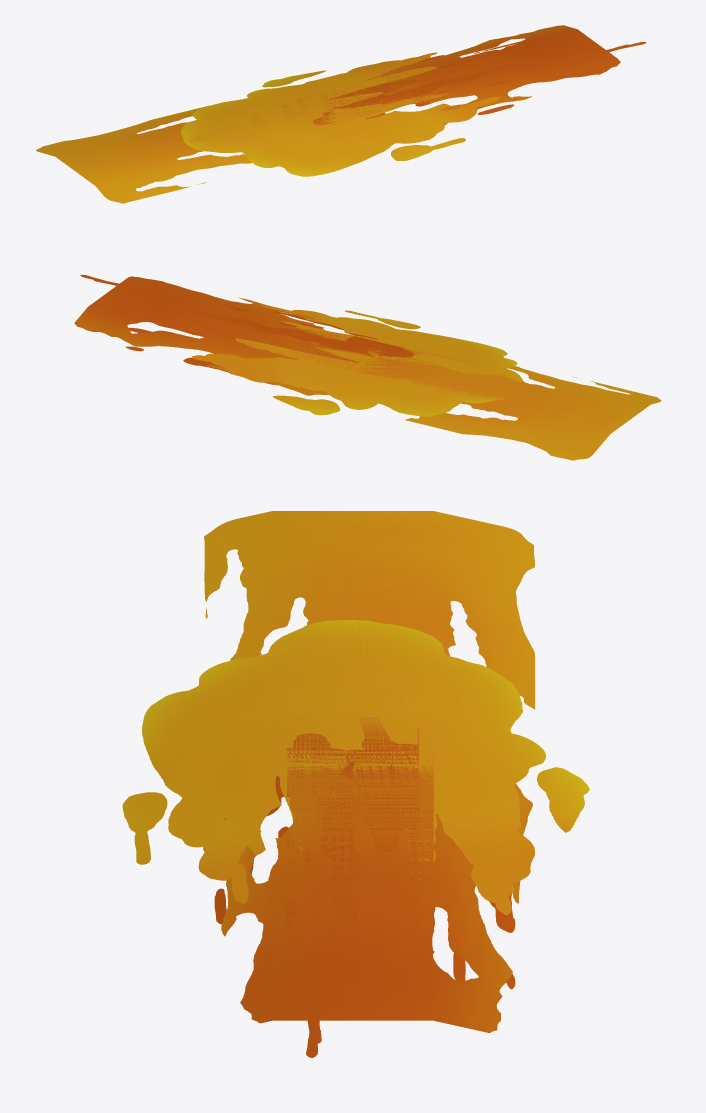
The model's file is CH_VFX_pooka_trail.gltf.
The picture shows the model from 3 angles, top to bottom: view 1: azimuth 30°, elevation 25°; view 2: azimuth 150°, elevation 25°; view 3: azimuth 270°, elevation 25°; orthographic projection. The views are drawn at different scales.
Visible parts, largest first — view 1: VFX_Pooka_trail_middle, VFX_Pooka_trail_head, VFX_Pooka_trail_end; view 2: VFX_Pooka_trail_middle, VFX_Pooka_trail_head, VFX_Pooka_trail_end; view 3: VFX_Pooka_trail_middle, VFX_Pooka_trail_head, VFX_Pooka_trail_end.
Boxes of the visible parts, left/top/right/bottom form: VFX_Pooka_trail_middle: left=36, top=25, right=620, bottom=203; VFX_Pooka_trail_head: left=181, top=52, right=499, bottom=176; VFX_Pooka_trail_end: left=313, top=41, right=646, bottom=125; VFX_Pooka_trail_middle: left=74, top=276, right=661, bottom=460; VFX_Pooka_trail_head: left=192, top=305, right=524, bottom=416; VFX_Pooka_trail_end: left=80, top=275, right=414, bottom=385; VFX_Pooka_trail_middle: left=204, top=511, right=535, bottom=1032; VFX_Pooka_trail_head: left=122, top=620, right=589, bottom=915; VFX_Pooka_trail_end: left=203, top=716, right=515, bottom=1057.
Bounding box in the file's own units: 1.08 × 0.0327 × 0.4.
Materials: 1 (1 with a texture image).
